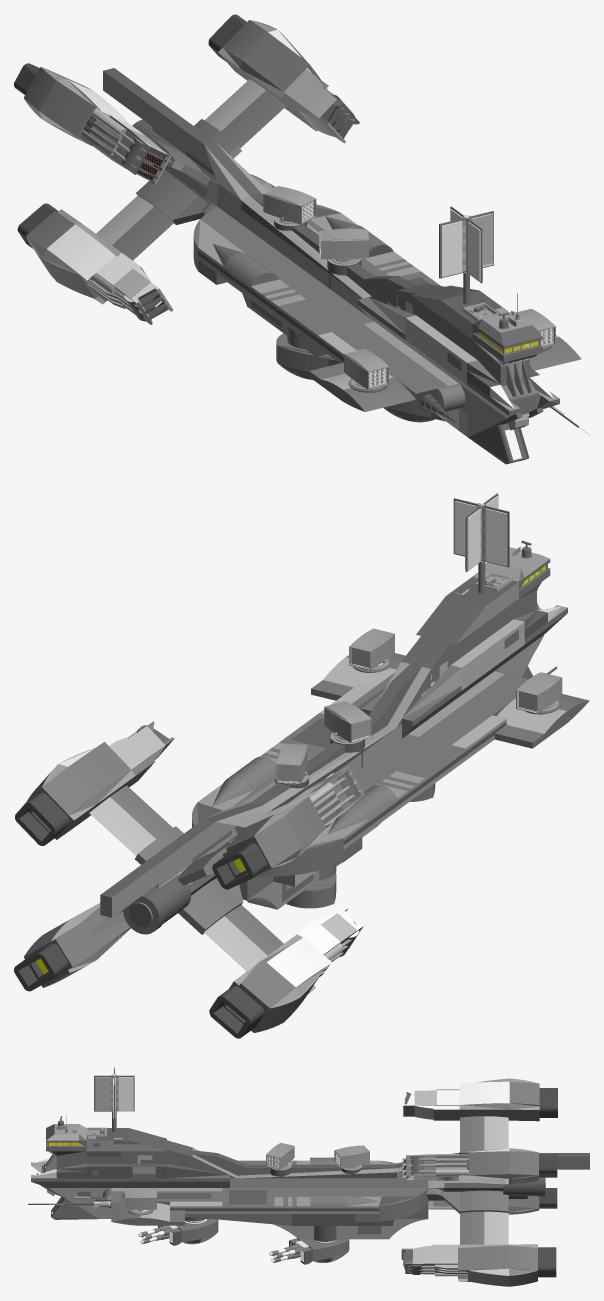
Rendered from EscortShip.obj.
3 views of the same model, one above another, from view 1: azimuth 30°, elevation 25°; view 2: azimuth 150°, elevation 25°; view 3: azimuth 270°, elevation 25° (orthographic). The views are drawn at different scales.
Parts seen in each view (by area): view 1: Mesh1 Model, Mesh10 Model, Mesh14 Model, Mesh6 Model, Mesh20 Model, Mesh24 Model, Mesh27 Model, Mesh18 Model, Mesh40 Model, Mesh33 Model, Mesh37 Model; view 2: Mesh1 Model, Mesh10 Model, Mesh14 Model, Mesh6 Model, Mesh2 Model, Mesh20 Model, Mesh43 Model, Mesh27 Model, Mesh18 Model, Mesh33 Model, Mesh24 Model, Mesh40 Model; view 3: Mesh1 Model, Mesh2 Model, Mesh6 Model, Mesh14 Model, Mesh20 Model, Mesh40 Model, Mesh37 Model, Mesh10 Model, Mesh24 Model, Mesh33 Model, Mesh43 Model, Mesh27 Model.
Boxes of the visible parts, left/top/right/bottom form: Mesh1 Model: left=96, top=68, right=589, bottom=464; Mesh10 Model: left=17, top=203, right=173, bottom=324; Mesh14 Model: left=208, top=14, right=359, bottom=143; Mesh6 Model: left=14, top=63, right=171, bottom=184; Mesh20 Model: left=439, top=206, right=493, bottom=303; Mesh24 Model: left=263, top=186, right=316, bottom=224; Mesh27 Model: left=319, top=228, right=368, bottom=260; Mesh18 Model: left=344, top=349, right=388, bottom=389; Mesh40 Model: left=276, top=333, right=339, bottom=379; Mesh33 Model: left=516, top=308, right=555, bottom=347; Mesh37 Model: left=383, top=401, right=445, bottom=422; Mesh1 Model: left=88, top=544, right=589, bottom=971; Mesh10 Model: left=209, top=906, right=363, bottom=1038; Mesh14 Model: left=15, top=721, right=174, bottom=845; Mesh6 Model: left=212, top=766, right=365, bottom=889; Mesh2 Model: left=14, top=903, right=131, bottom=991; Mesh20 Model: left=453, top=493, right=509, bottom=593; Mesh43 Model: left=123, top=875, right=191, bottom=934; Mesh27 Model: left=324, top=701, right=371, bottom=742; Mesh18 Model: left=516, top=672, right=562, bottom=713; Mesh33 Model: left=349, top=628, right=394, bottom=670; Mesh24 Model: left=276, top=743, right=307, bottom=784; Mesh40 Model: left=286, top=873, right=336, bottom=908; Mesh1 Model: left=14, top=1115, right=589, bottom=1244; Mesh2 Model: left=401, top=1244, right=556, bottom=1286; Mesh6 Model: left=403, top=1078, right=557, bottom=1121; Mesh14 Model: left=402, top=1148, right=557, bottom=1184; Mesh20 Model: left=94, top=1067, right=134, bottom=1132; Mesh40 Model: left=271, top=1238, right=349, bottom=1264; Mesh37 Model: left=140, top=1219, right=218, bottom=1245; Mesh10 Model: left=428, top=1188, right=557, bottom=1214; Mesh24 Model: left=334, top=1145, right=369, bottom=1168; Mesh33 Model: left=125, top=1190, right=156, bottom=1210; Mesh43 Model: left=503, top=1177, right=545, bottom=1196; Mesh27 Model: left=266, top=1142, right=294, bottom=1169.
Bounding box in the file's own units: 328 × 333 × 972.
Materials: 10 (2 with a texture image).
